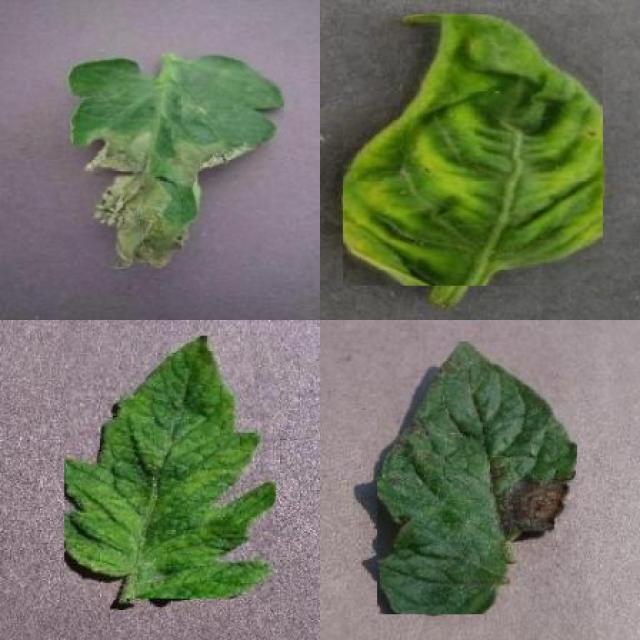Late Blight: (377, 342, 577, 614), (67, 52, 284, 269)
Mosaic Virus: (64, 336, 276, 598)
Yellow Leaf Curl Virus: (343, 15, 603, 285)
